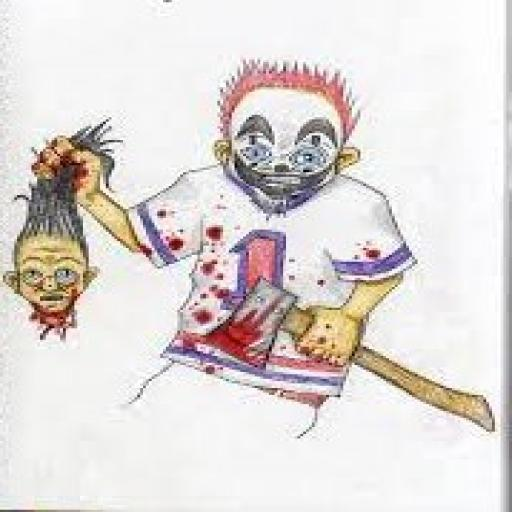person: (38, 54, 426, 444), (6, 114, 114, 346)
